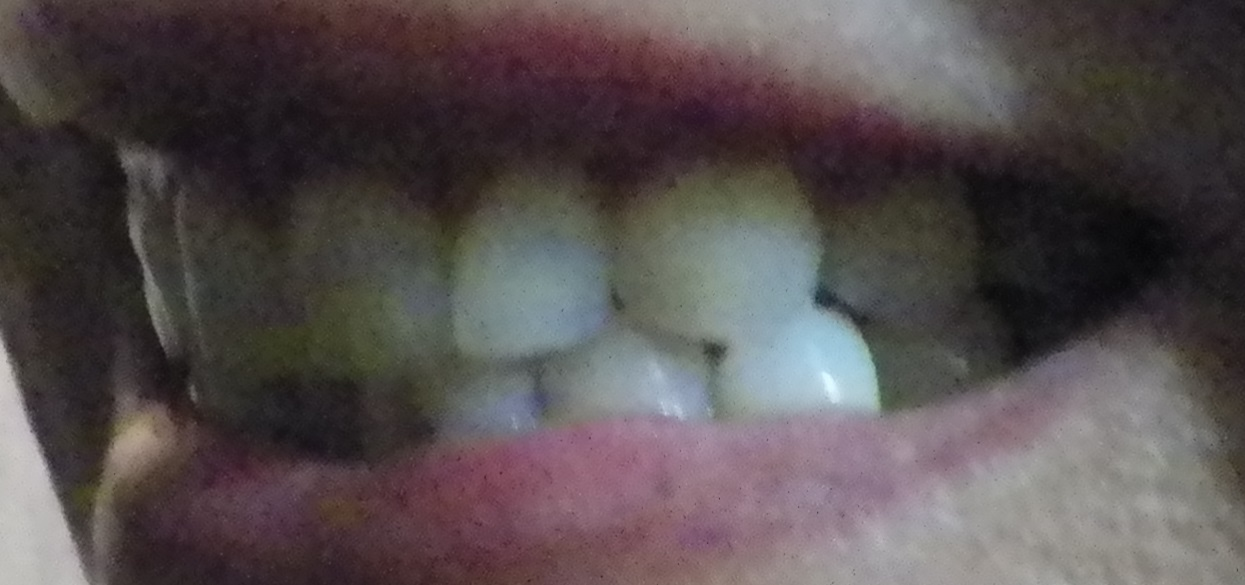boca: (118, 174, 994, 429)
